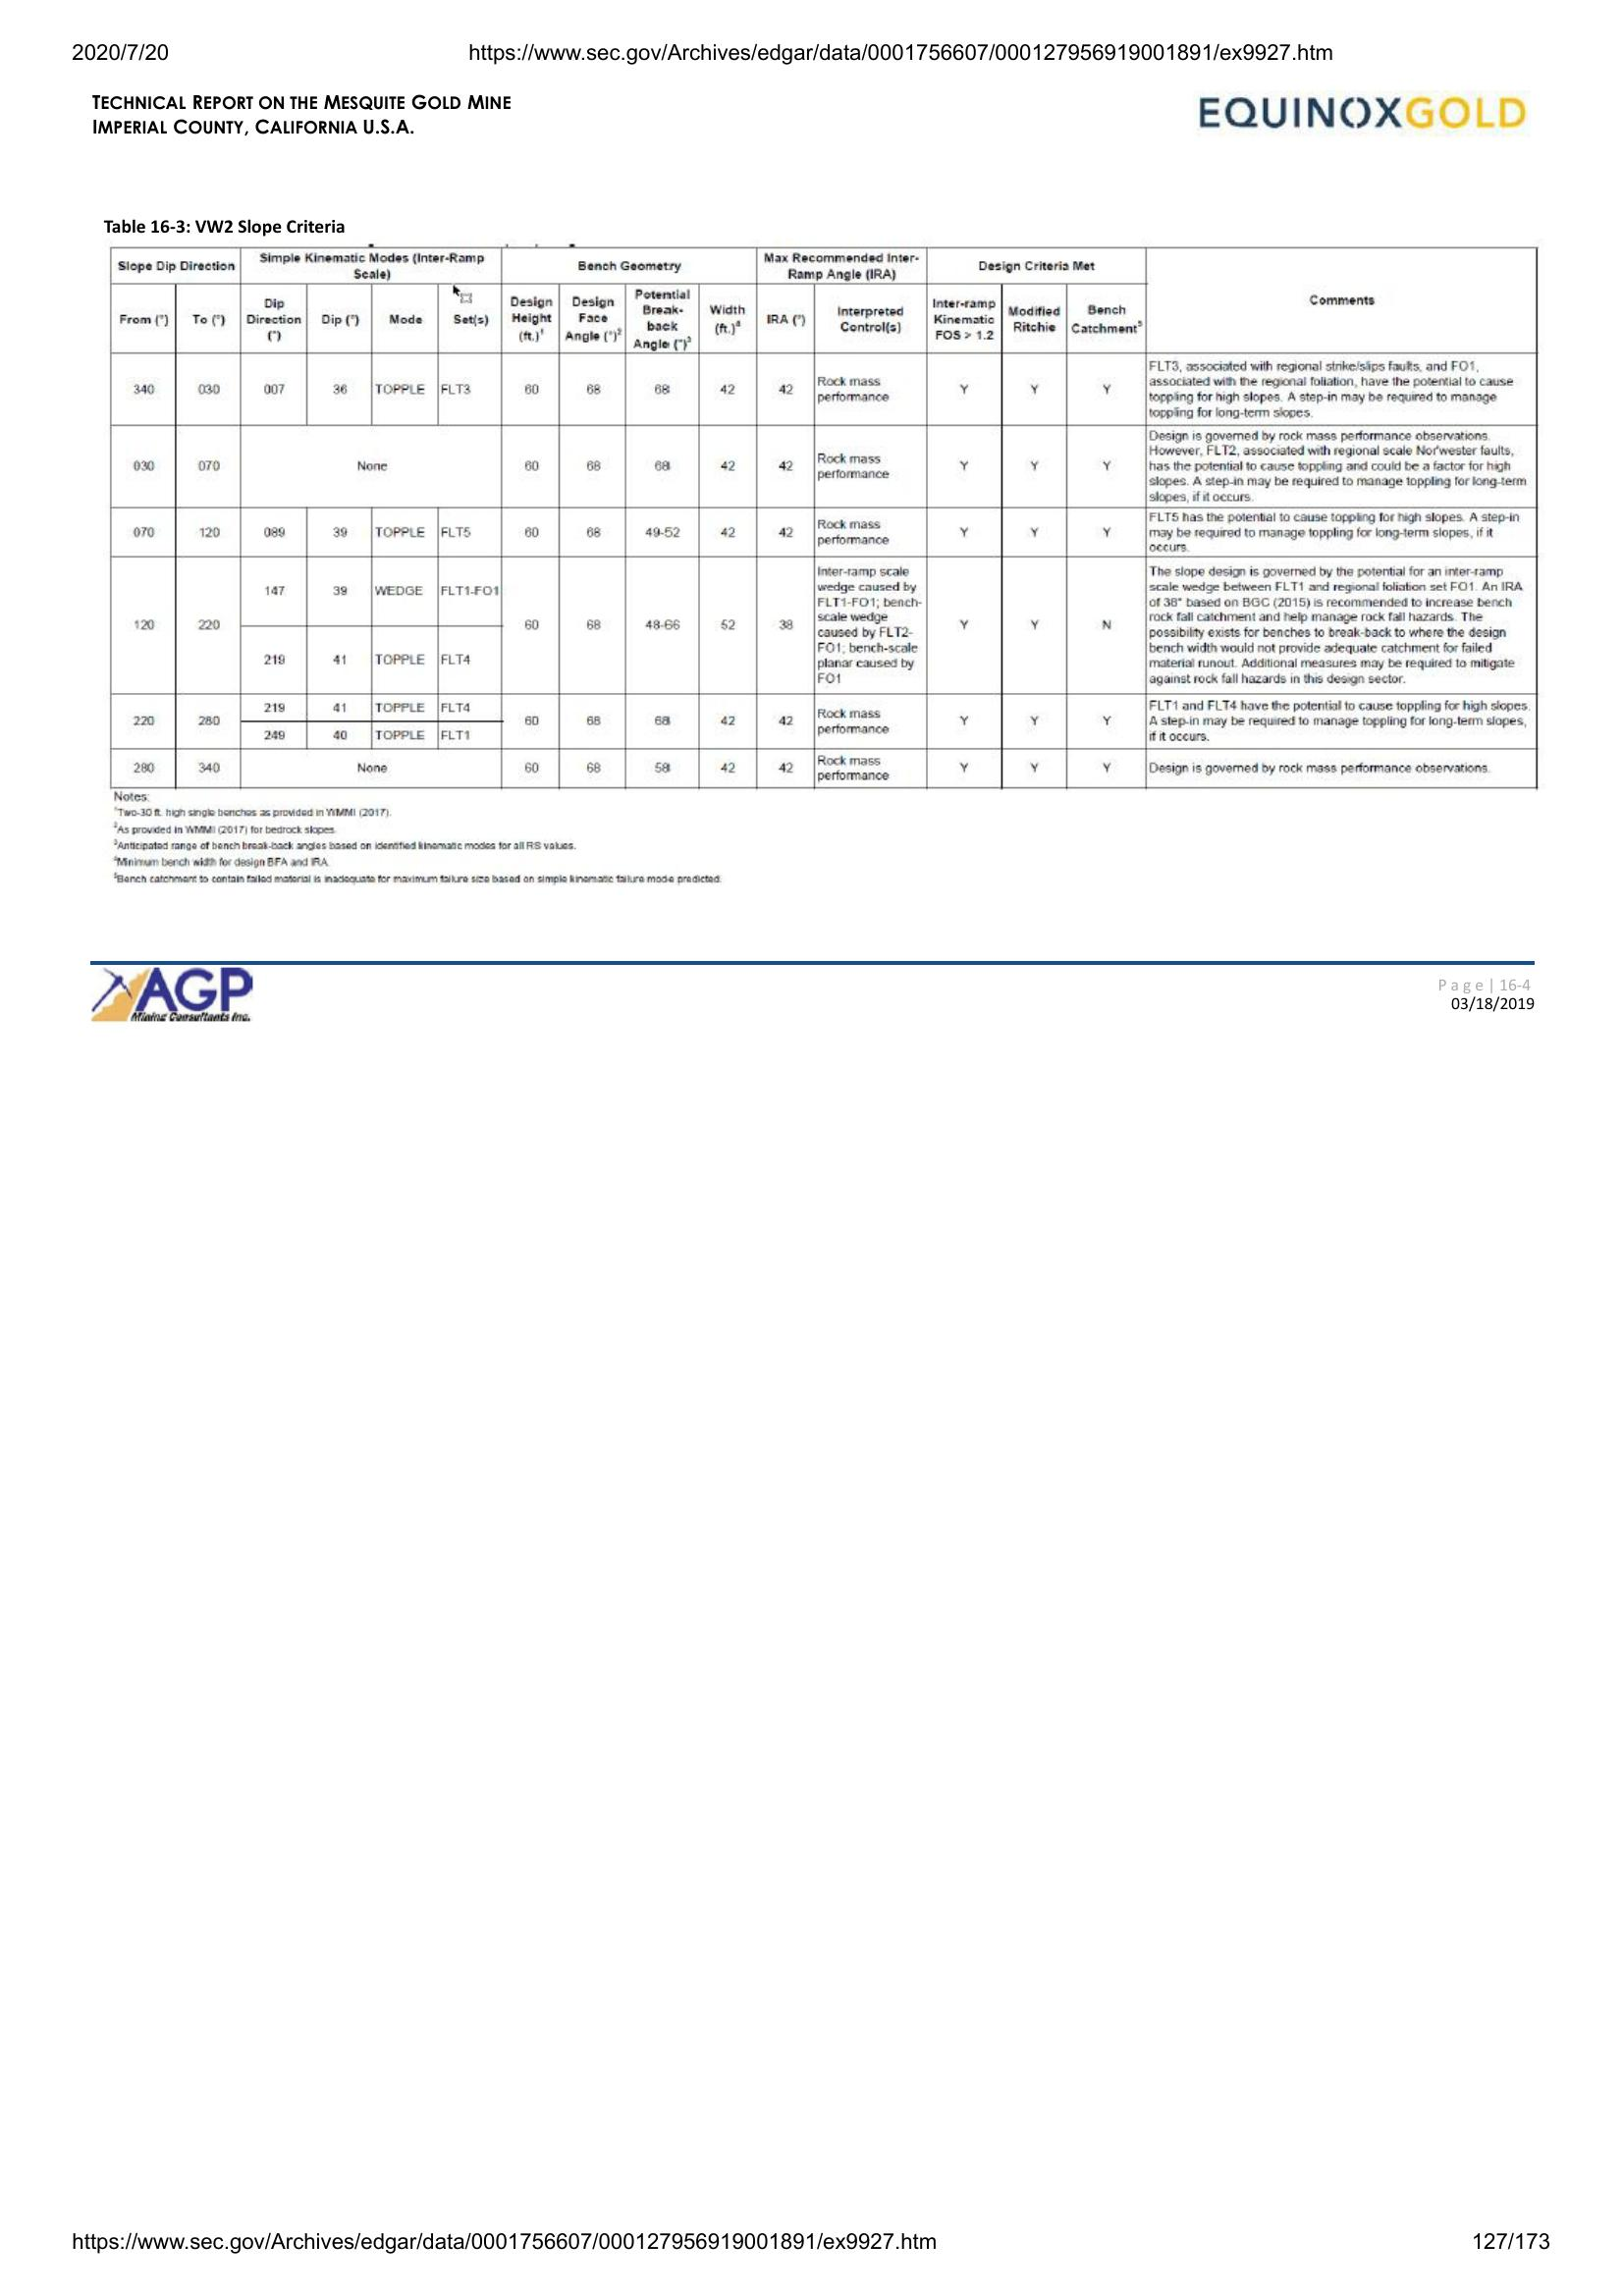table: (105, 239, 1546, 795)
